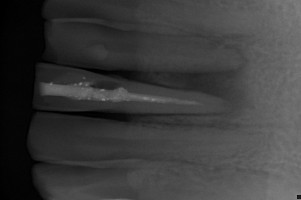Furcation Involvement: (152, 68, 253, 115), (198, 34, 249, 64)
